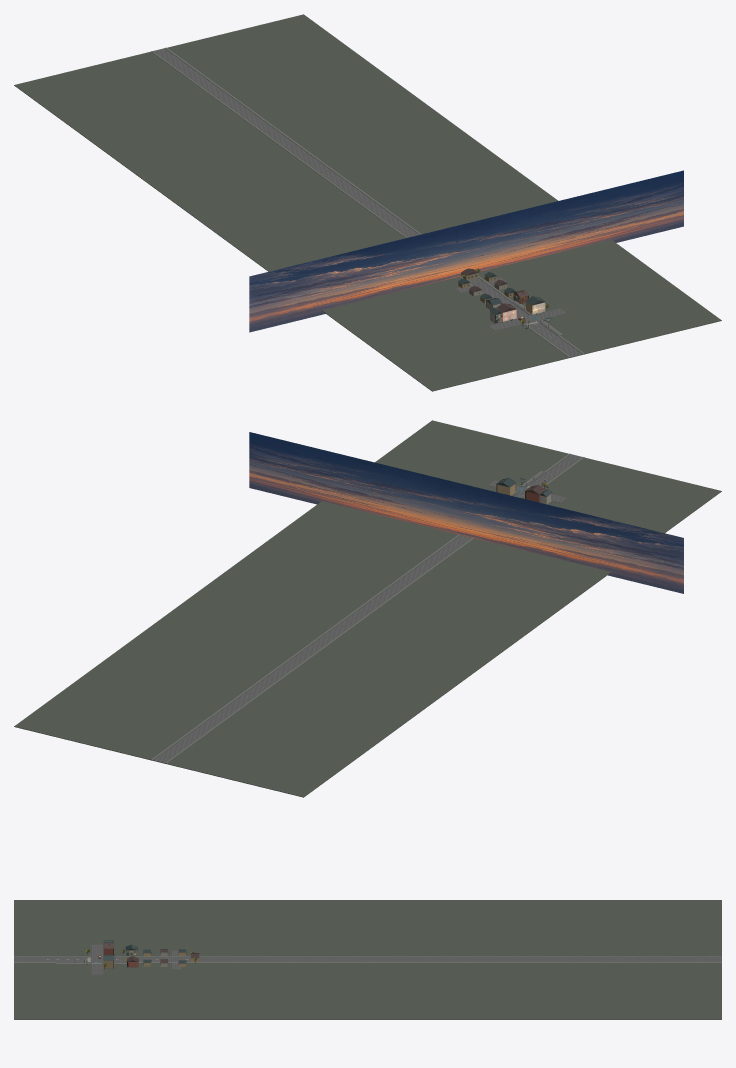
The model's file is study-town-dusk-comparison.glb.
The picture shows the model from 3 angles, top to bottom: view 1: azimuth 30°, elevation 25°; view 2: azimuth 150°, elevation 25°; view 3: azimuth 270°, elevation 25°; orthographic projection. The views are drawn at different scales.
Parts seen in each view (by area): view 1: WEB_GROUP_000, WEB_GROUP_026, WEB_GROUP_001, WEB_GROUP_002; view 2: WEB_GROUP_000, WEB_GROUP_026, WEB_GROUP_001; view 3: WEB_GROUP_000, WEB_GROUP_001, WEB_GROUP_002.
Part boxes in pixels (box(x1,y1,x2,y2)): WEB_GROUP_000: box(14, 14, 721, 391); WEB_GROUP_026: box(249, 170, 683, 332); WEB_GROUP_001: box(154, 48, 582, 356); WEB_GROUP_002: box(458, 268, 545, 324); WEB_GROUP_000: box(14, 420, 721, 797); WEB_GROUP_026: box(249, 432, 683, 593); WEB_GROUP_001: box(153, 454, 581, 762); WEB_GROUP_000: box(14, 900, 721, 1019); WEB_GROUP_001: box(14, 944, 721, 974); WEB_GROUP_002: box(85, 940, 199, 963).
Size of the model in its own units: 300 by 37 by 500.
Materials: 33 (21 with a texture image).
